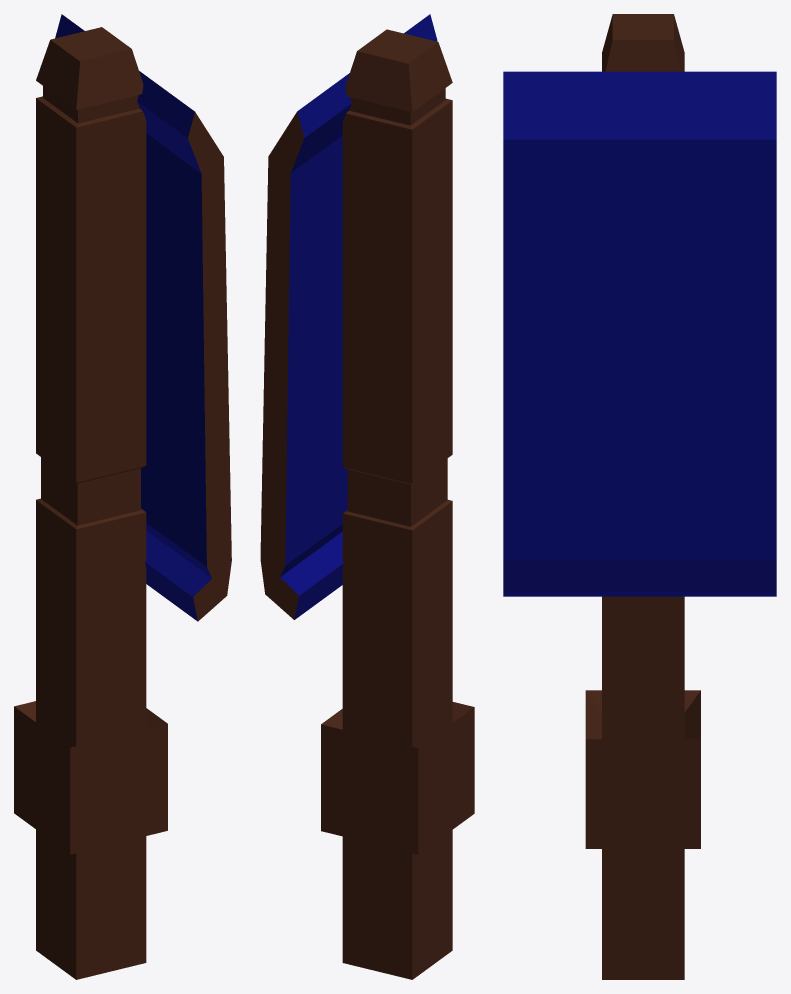
File: banner_enemy.fbx
3 views of the same model, side by side, from view 1: azimuth 30°, elevation 25°; view 2: azimuth 150°, elevation 25°; view 3: azimuth 270°, elevation 25° (orthographic). The views are drawn at different scales.
Parts seen in each view (by area): view 1: Cube; view 2: Cube; view 3: Cube.
Part boxes in pixels (bbox=[...]): Cube: bbox=[14, 14, 231, 979]; Cube: bbox=[260, 14, 474, 979]; Cube: bbox=[503, 14, 776, 979].
Size of the model in its own units: 346 by 2491 by 660.
